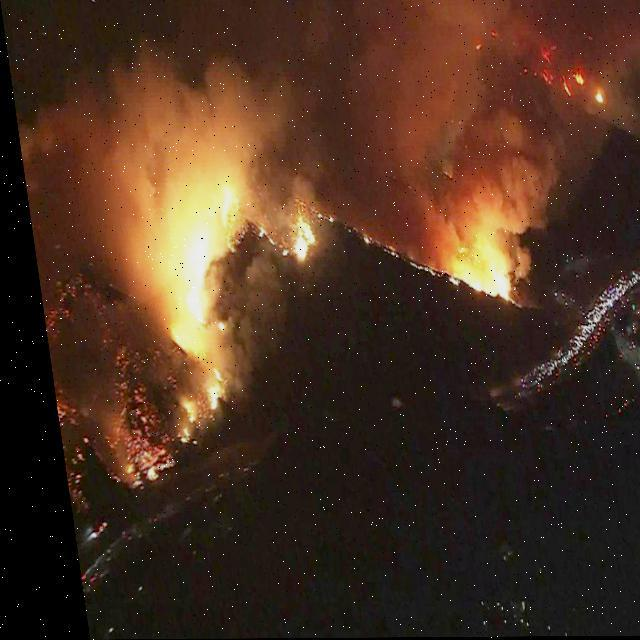Fire: (78, 172, 330, 475), (432, 186, 526, 302)
